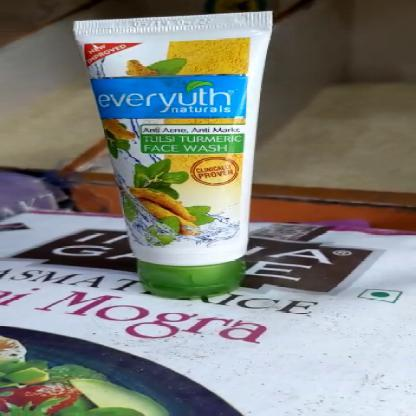EY AAAM TULSI TURMERIC FACEWASH50G: (73, 22, 287, 292)
